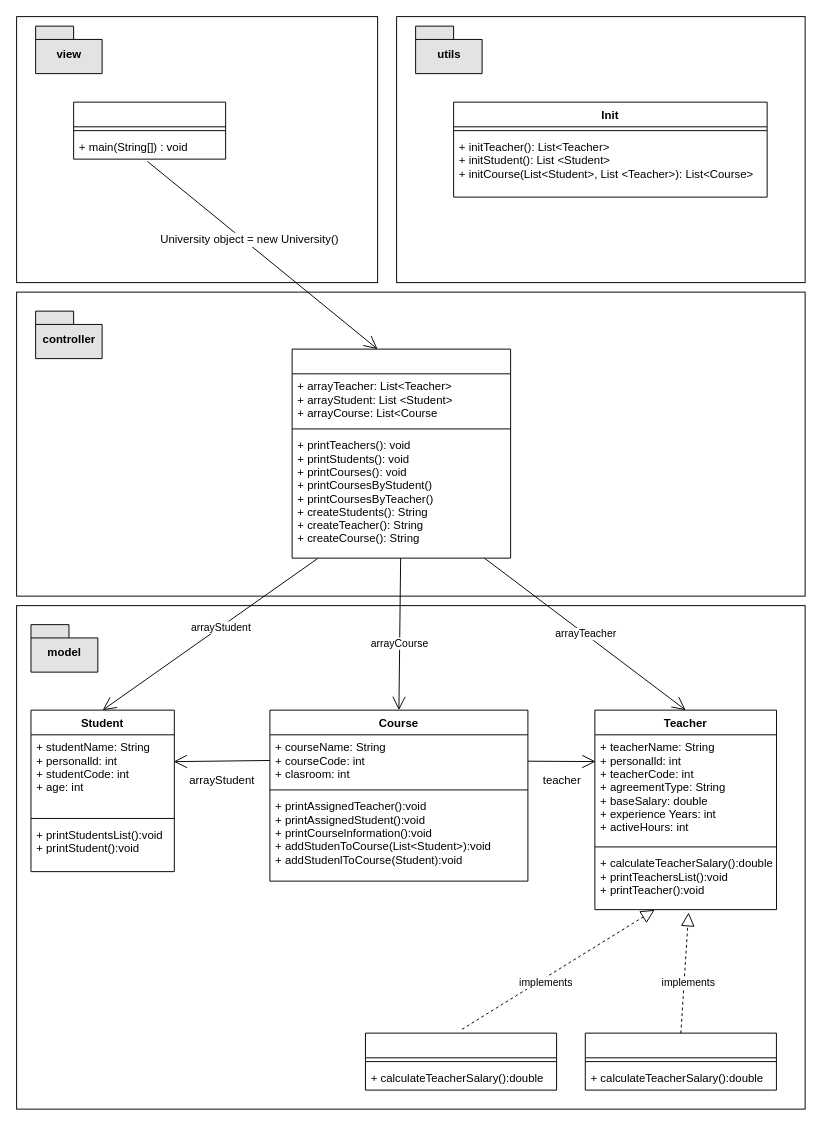
This 822x1126 diagram has some shape labels left out. The shapes that lost their labels are listed below. From the top down, each one's box as (x1, y1, x2, y2) in pixels, then its label:
(73, 101, 226, 159): Menu
(291, 348, 511, 558): University
(365, 1032, 557, 1090): FullTimeTeacher
(584, 1032, 776, 1090): FullPartTeacher
